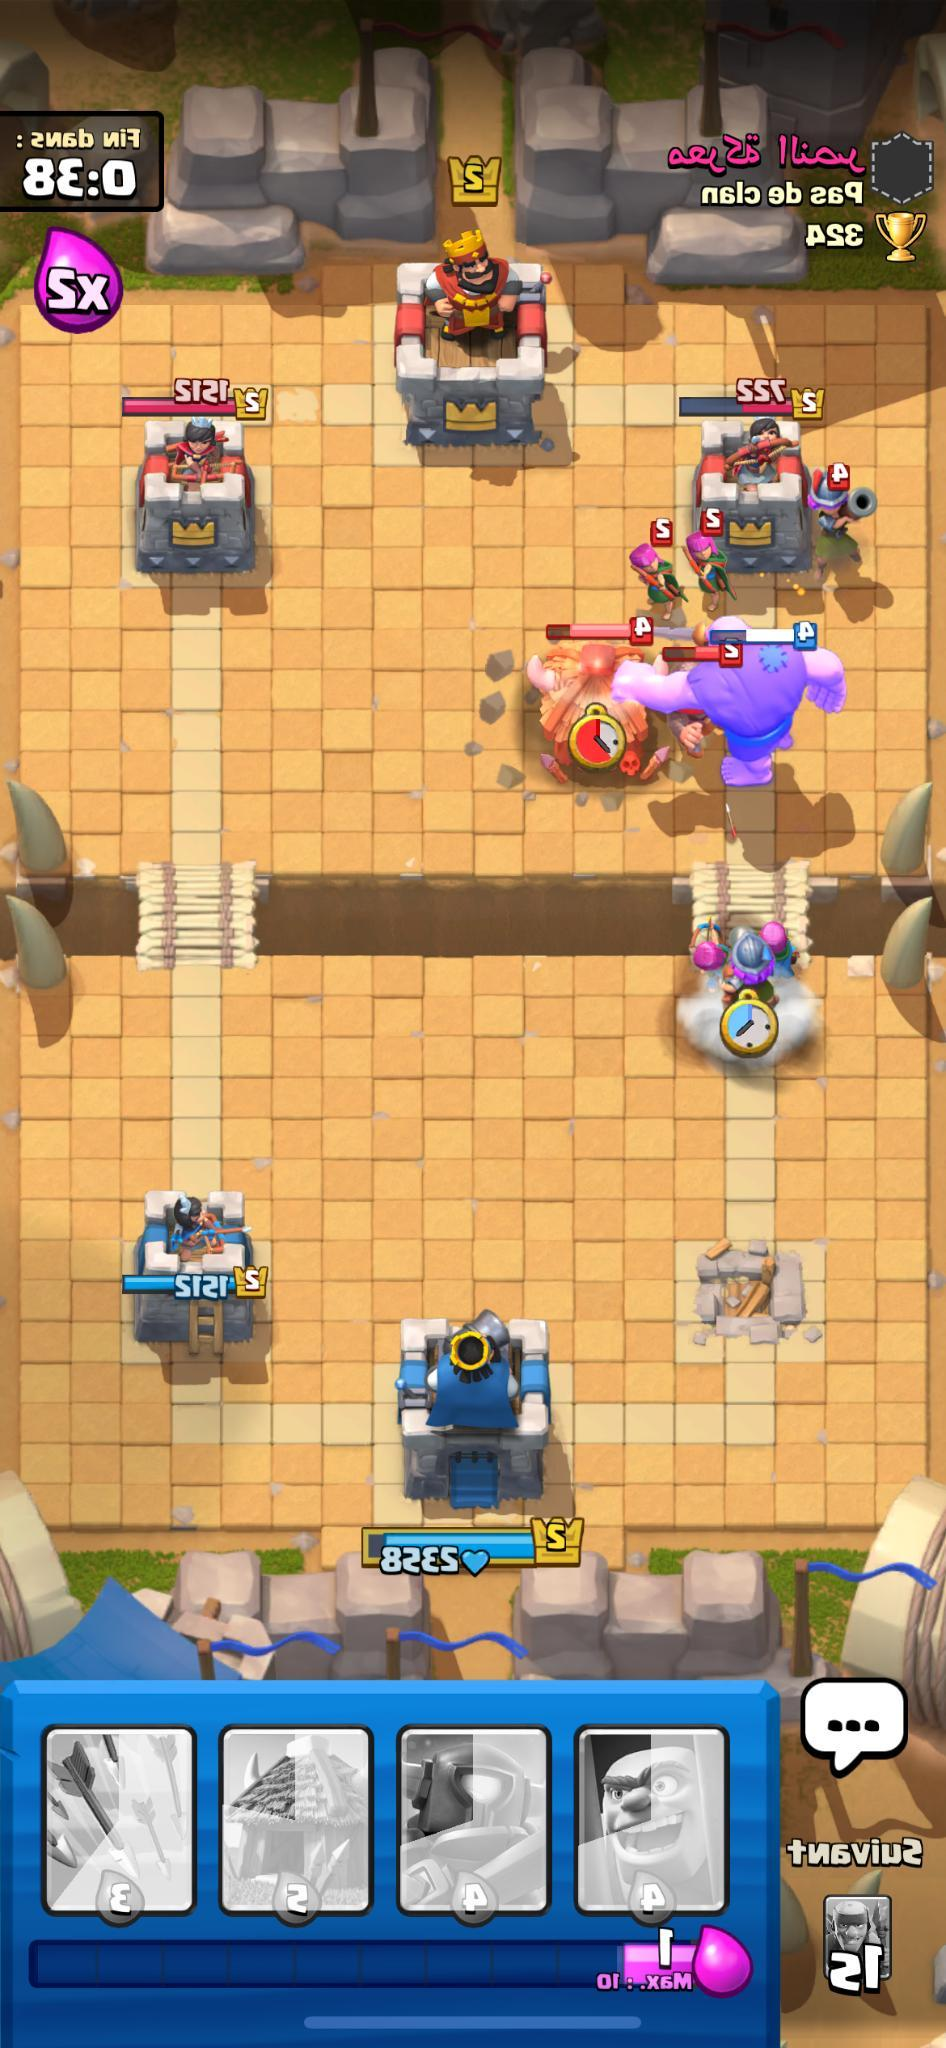enemy_archers: (623, 519, 688, 609), (680, 514, 735, 592)
enemy_goblin_hut: (521, 616, 687, 784)
enemy_musketeer: (798, 456, 882, 551)
player_archers: (756, 908, 802, 980), (682, 916, 729, 985)
player_giant: (594, 609, 862, 791)
player_musketeer: (725, 919, 778, 1015)
